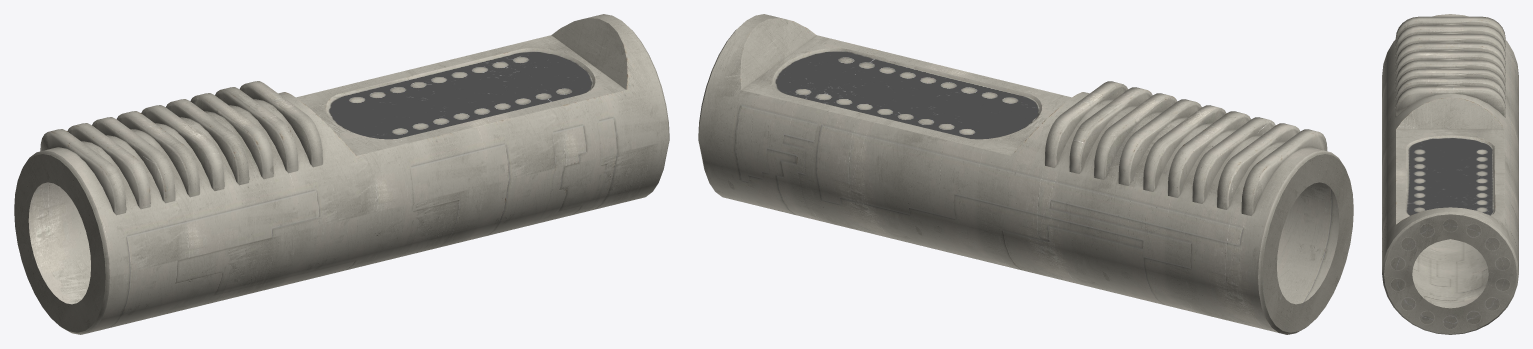
File: grip_16_u_d.glb
3 renders of one model, left to right at view 1: azimuth 30°, elevation 25°; view 2: azimuth 150°, elevation 25°; view 3: azimuth 270°, elevation 25°, orthographic. The views are drawn at different scales.
Visible parts, largest first — view 1: grip_16_u_d_lod0; view 2: grip_16_u_d_lod0; view 3: grip_16_u_d_lod0.
Part boxes in pixels (<box>): grip_16_u_d_lod0: <box>14,14,669,334</box>; grip_16_u_d_lod0: <box>698,14,1353,334</box>; grip_16_u_d_lod0: <box>1382,14,1518,334</box>.
Size of what is drawn, in the model's own units: 0.1043 by 0.0309 by 0.0302.
Materials: 1 (1 with a texture image).
